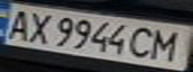4: (106, 21, 133, 56), (90, 19, 112, 54)
9: (48, 15, 75, 48), (69, 17, 93, 52)
A: (0, 7, 36, 40)
C: (127, 25, 160, 61)
M: (145, 27, 187, 63)
X: (21, 9, 57, 45)
